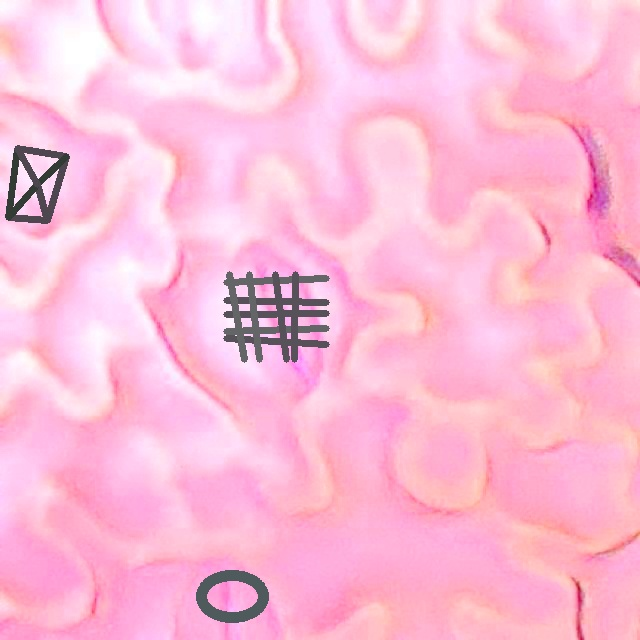close: (5, 145, 69, 223)
open: (223, 271, 329, 362), (196, 571, 268, 622)
